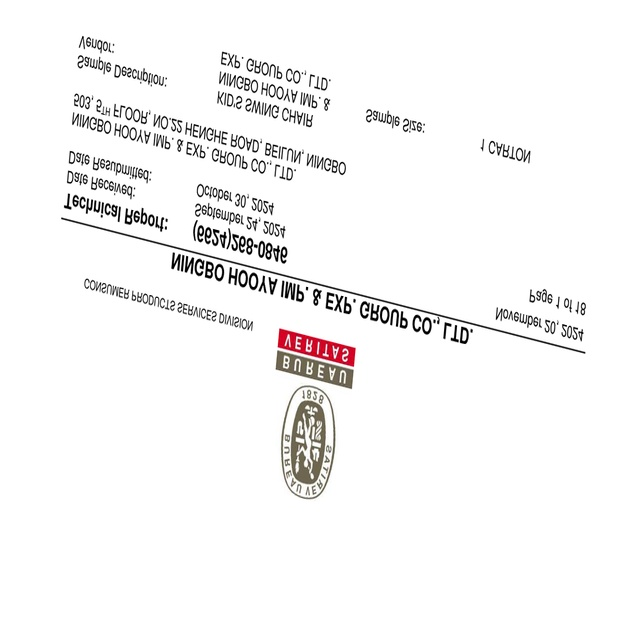bureau_veritas: (275, 323, 359, 506)
